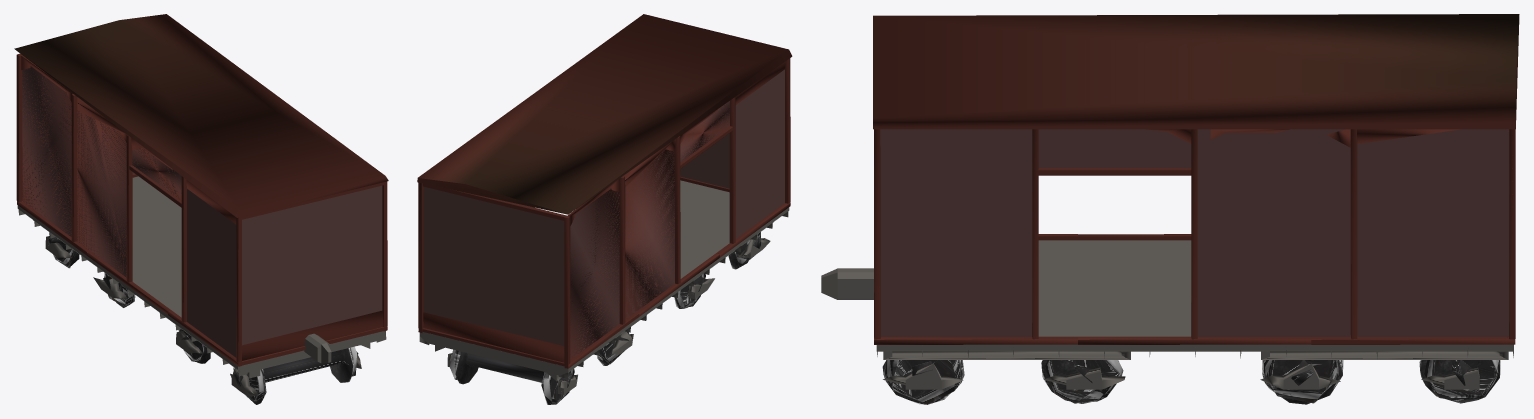
Rendered from boxcar.lod-v1.lod1.glb.
3 renders of one model, left to right at view 1: azimuth 30°, elevation 25°; view 2: azimuth 150°, elevation 25°; view 3: azimuth 270°, elevation 25°, orthographic. The views are drawn at different scales.
Bounding box in the file's own units: 4.72 × 6.42 × 13.
Materials: 2 (1 with a texture image).
